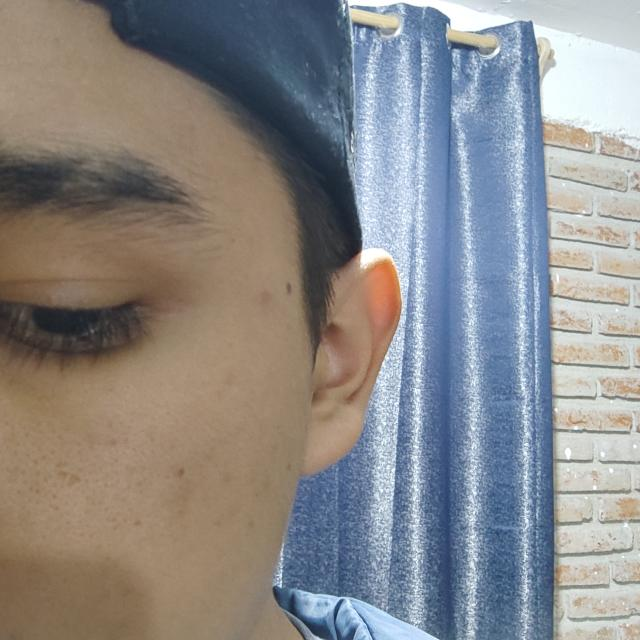ear: (301, 249, 401, 476)
